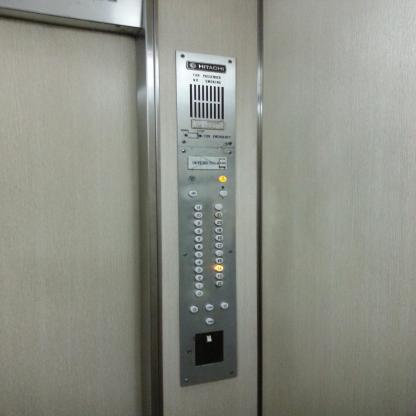1: (194, 282, 204, 289)
10: (193, 212, 203, 218)
11: (194, 204, 202, 211)
12: (214, 280, 224, 286)
13: (215, 272, 223, 279)
14: (214, 265, 224, 271)
15: (215, 257, 223, 264)
16: (215, 249, 223, 256)
17: (214, 242, 223, 248)
18: (214, 234, 223, 241)
19: (214, 227, 222, 233)
2: (195, 274, 203, 281)
20: (214, 219, 223, 225)
21: (214, 212, 223, 218)
22: (214, 204, 222, 210)
3: (194, 266, 203, 273)
4: (194, 259, 203, 265)
5: (194, 251, 203, 258)
6: (194, 244, 203, 249)
7: (193, 236, 202, 242)
8: (193, 228, 202, 234)
9: (194, 220, 202, 226)
D: (190, 306, 198, 312)
G: (195, 290, 203, 297)
U: (221, 302, 228, 309)
close: (219, 190, 227, 196)
down: (188, 176, 196, 183)
empty: (186, 132, 198, 139)
open: (188, 190, 197, 197)
switch: (205, 334, 212, 343)
text: (206, 304, 214, 311)
text_PASS: (206, 318, 214, 324)
text_blur: (219, 159, 226, 167)
up: (219, 176, 226, 183)
